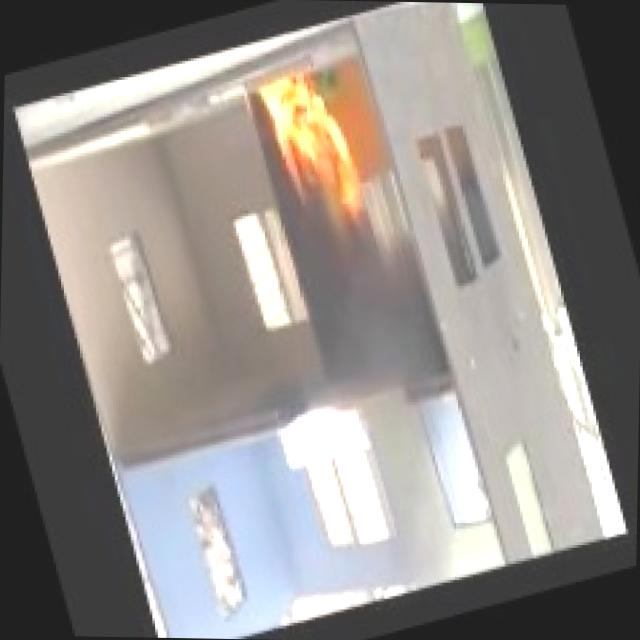fire: (250, 66, 382, 240)
smoke: (283, 224, 446, 418)
